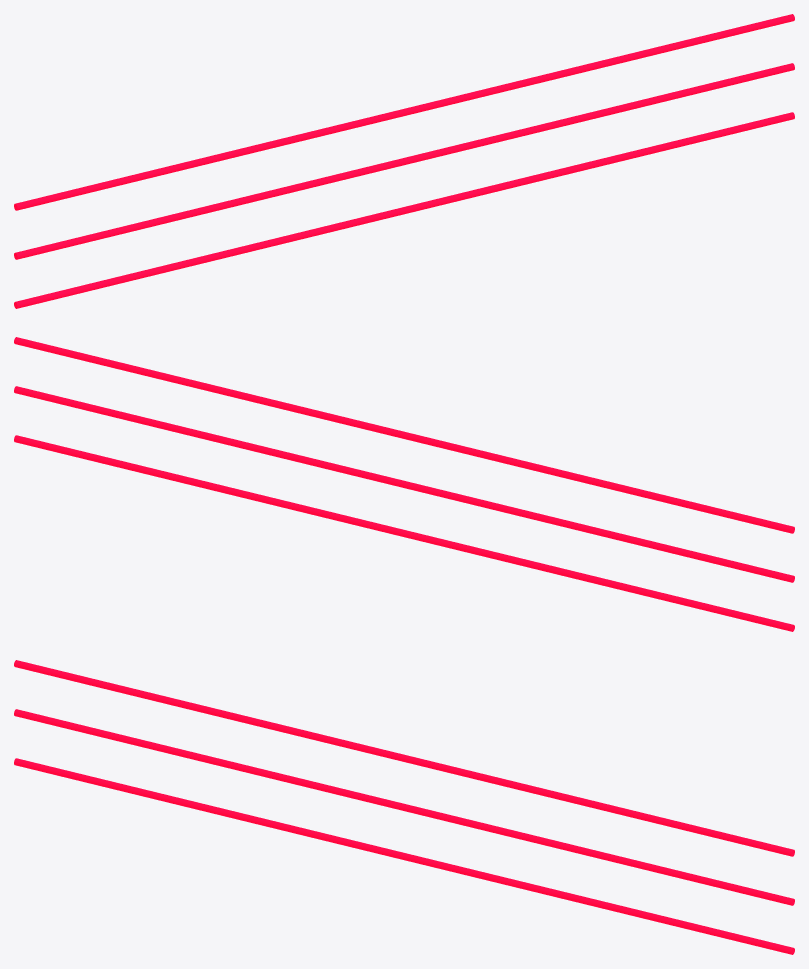
File: Lazerwall.fbx
3 views of the same model, one above another, from view 1: azimuth 30°, elevation 25°; view 2: azimuth 150°, elevation 25°; view 3: azimuth 330°, elevation 25° (orthographic).
Parts seen in each view (by area): view 1: Lazerwall; view 2: Lazerwall; view 3: Lazerwall.
Part boxes in pixels (x1,y1,x2,y2): Lazerwall: (14, 14, 794, 308); Lazerwall: (14, 337, 794, 631); Lazerwall: (14, 660, 794, 954).
Size of the model in its own units: 49.72 by 6.4 by 0.4.
